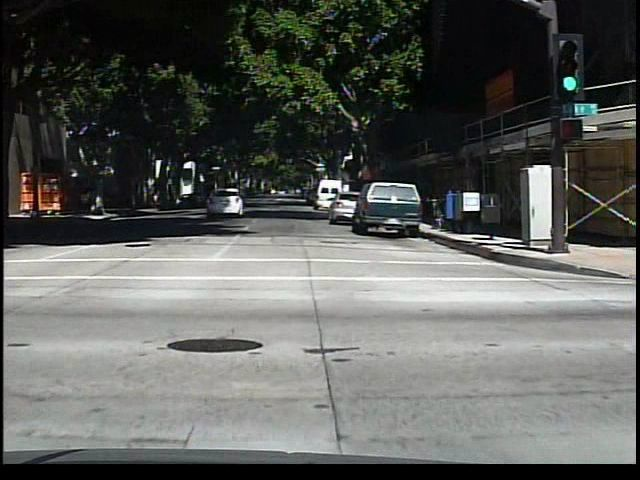person: (79, 182, 95, 217)
